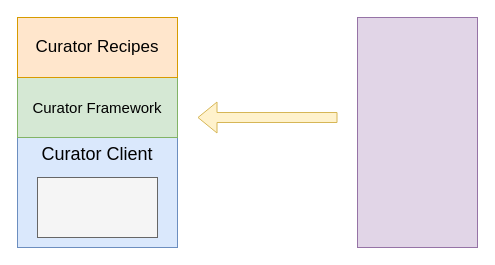
This 495x265 diagram has some shape labels left out. The shapes that lost their labels are listed below. From the top down, each one's centre as x and y in pixels, then its label:
At [417,132]: "Extensions".
At [97,207]: "ZooKeeper".
